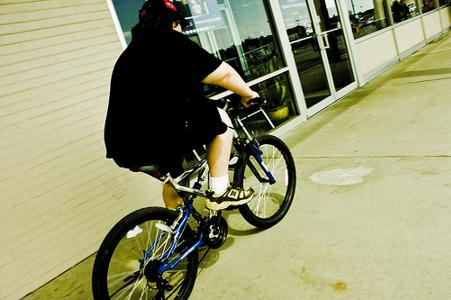person: (105, 2, 262, 254)
